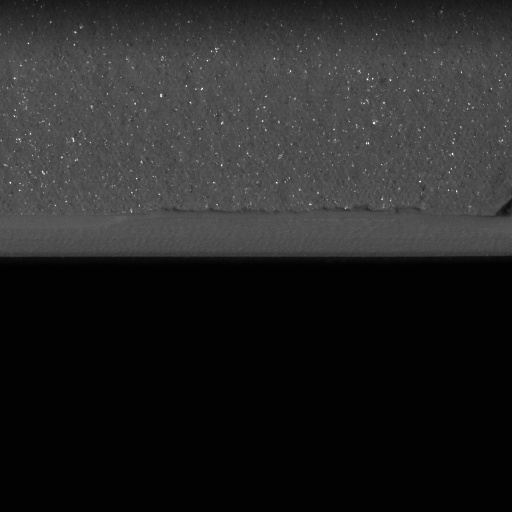bengque: (490, 197, 511, 222)
